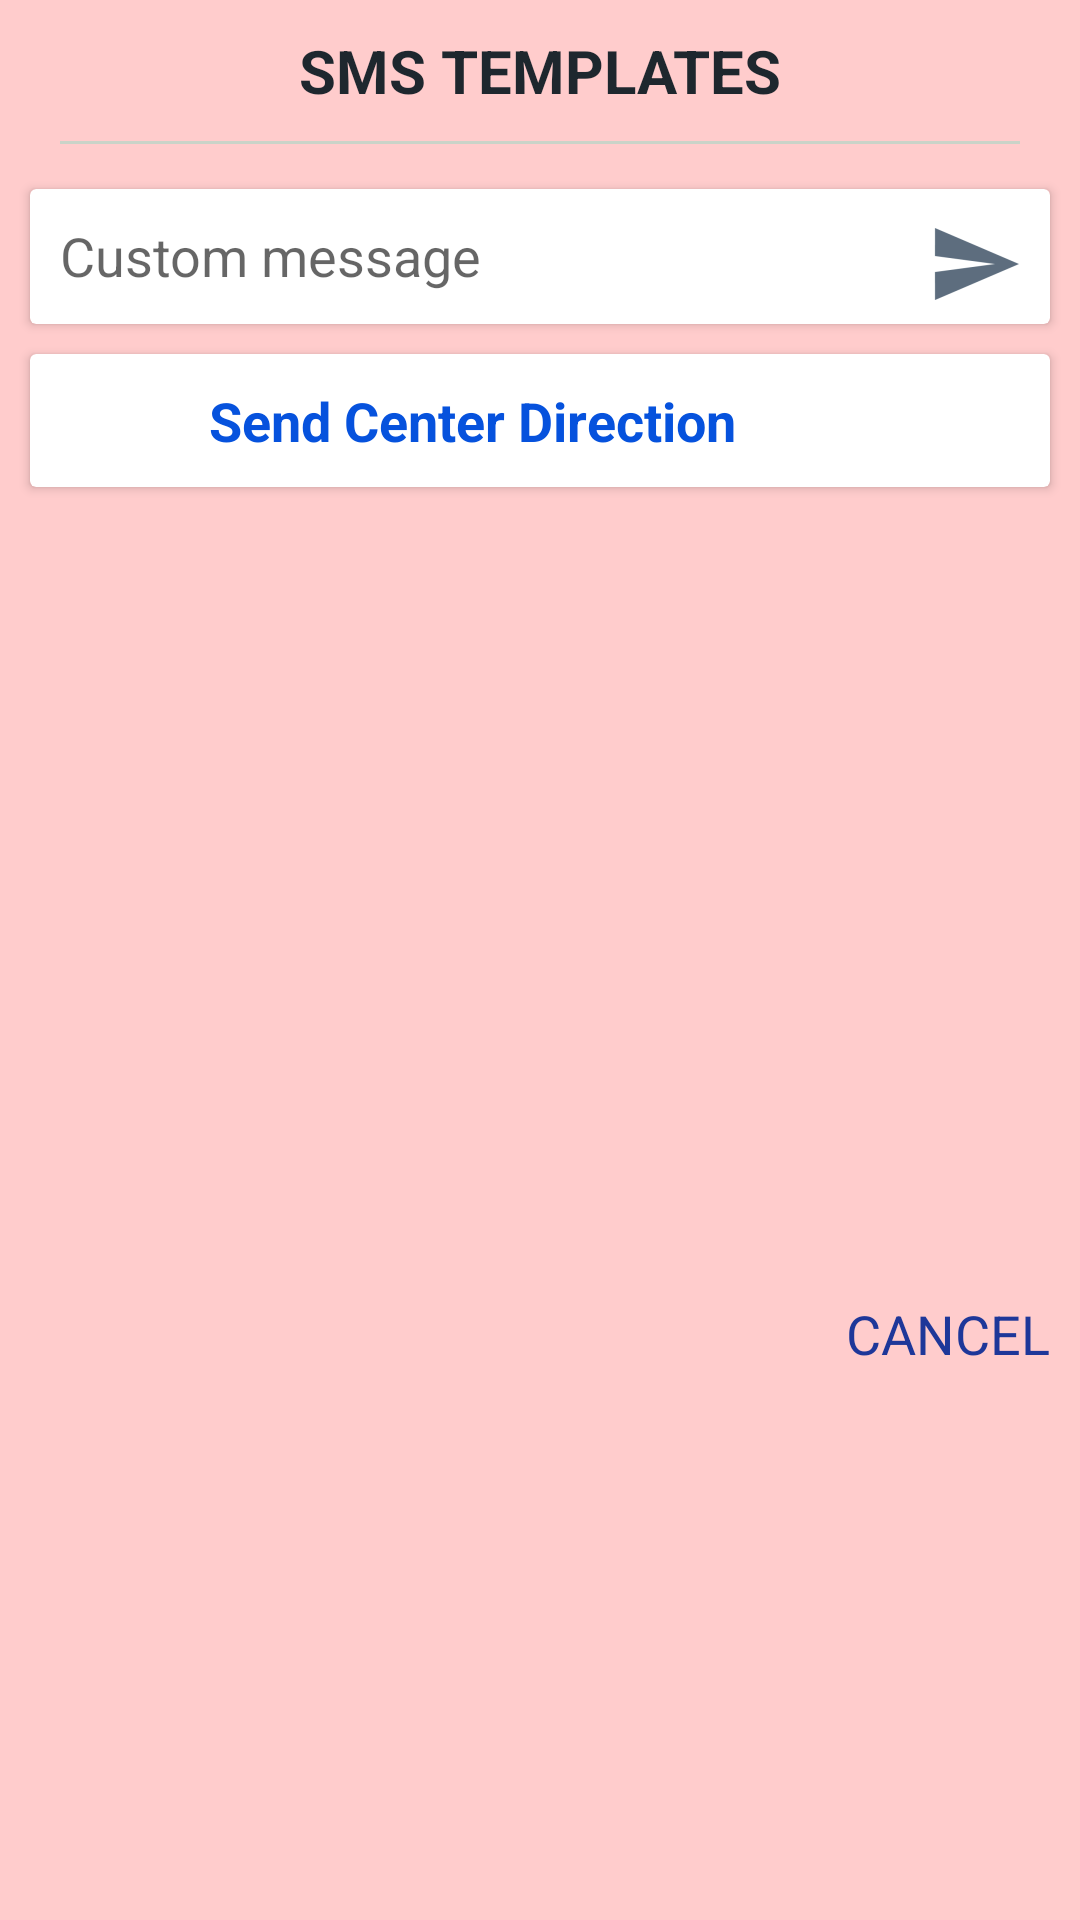

Where to tap for icons on this 1080 x 1920 app screen, as (x,y):
send sms: (977,264)
